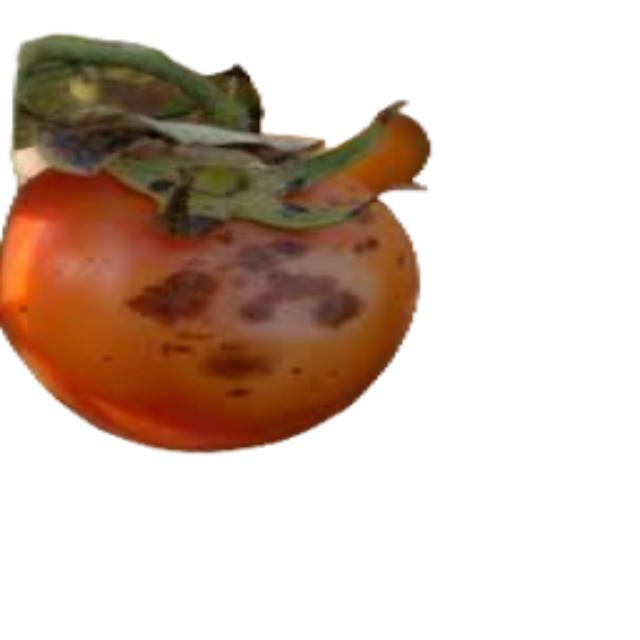defect: (0, 38, 434, 456)
